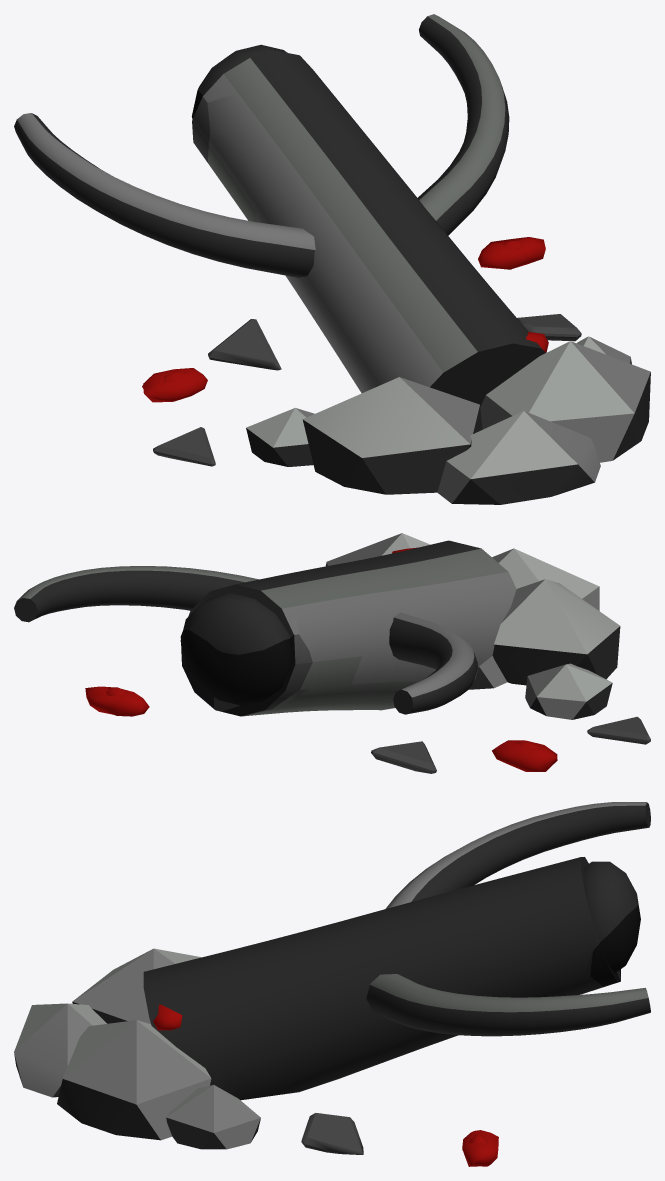
Rendered from cliff_bunker_base_wreck.glb.
3 renders of one model, top to bottom at view 1: azimuth 30°, elevation 25°; view 2: azimuth 150°, elevation 25°; view 3: azimuth 270°, elevation 25°, orthographic. The views are drawn at different scales.
Parts seen in each view (by area): view 1: post.001, rubble0.001, prong_l.001, rubble1.001, rubble2.001, prong_r.001, rubble5.001, bit0.001, base_ember2.001, base_ember1.001, bit2.001, post_cap.001 (+1 smaller); view 2: post.001, post_cap.001, rubble0.001, prong_r.001, prong_l.001, rubble5.001, rubble2.001, base_ember1.001, base_ember2.001, bit0.001, rubble1.001, bit2.001 (+1 smaller); view 3: post.001, rubble1.001, prong_r.001, prong_l.001, rubble2.001, rubble4.001, post_cap.001, rubble0.001, bit1.001, base_ember2.001, base_ember0.001.
Boxes of the visible parts, left/top/right/bottom form: post.001: left=192, top=51, right=545, bottom=406; rubble0.001: left=302, top=377, right=482, bottom=494; prong_l.001: left=14, top=113, right=315, bottom=277; rubble1.001: left=480, top=341, right=650, bottom=462; rubble2.001: left=437, top=411, right=600, bottom=504; prong_r.001: left=418, top=14, right=509, bottom=235; rubble5.001: left=246, top=408, right=314, bottom=466; bit0.001: left=208, top=319, right=281, bottom=370; base_ember2.001: left=478, top=237, right=545, bottom=269; base_ember1.001: left=142, top=368, right=207, bottom=402; bit2.001: left=153, top=427, right=215, bottom=466; post_cap.001: left=191, top=44, right=287, bottom=118; post.001: left=180, top=540, right=516, bottom=716; post_cap.001: left=180, top=593, right=291, bottom=705; rubble0.001: left=492, top=579, right=620, bottom=685; prong_r.001: left=14, top=566, right=258, bottom=622; prong_l.001: left=389, top=612, right=477, bottom=714; rubble5.001: left=525, top=663, right=612, bottom=719; rubble2.001: left=492, top=548, right=599, bottom=610; base_ember1.001: left=492, top=740, right=557, bottom=771; base_ember2.001: left=85, top=686, right=149, bottom=716; bit0.001: left=371, top=741, right=436, bottom=773; rubble1.001: left=325, top=533, right=430, bottom=566; bit2.001: left=587, top=716, right=650, bottom=744; post.001: left=143, top=857, right=620, bottom=1100; rubble1.001: left=57, top=1020, right=211, bottom=1140; prong_r.001: left=366, top=974, right=650, bottom=1036; prong_l.001: left=385, top=802, right=650, bottom=908; rubble2.001: left=14, top=1003, right=106, bottom=1097; rubble4.001: left=166, top=1085, right=260, bottom=1149; post_cap.001: left=584, top=861, right=640, bottom=972; rubble0.001: left=72, top=948, right=201, bottom=1023; bit1.001: left=301, top=1113, right=363, bottom=1154; base_ember2.001: left=462, top=1130, right=498, bottom=1166; base_ember0.001: left=153, top=1004, right=182, bottom=1030.
Bounding box in the file's own units: 12.58 × 5.34 × 14.81.
